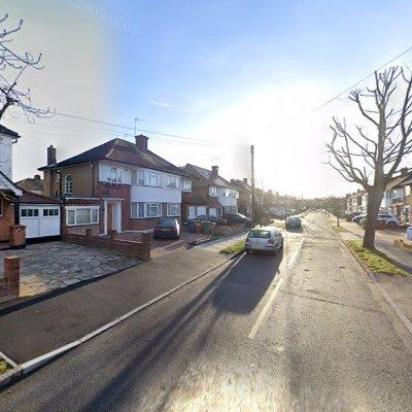stationary-car-offstreet: (150, 214, 180, 240), (181, 215, 227, 227), (360, 213, 399, 226), (221, 213, 252, 227), (351, 213, 368, 223), (406, 224, 412, 242)
stationary-car-onstreet: (243, 227, 283, 255)
stationary-light-truck-onstreet: (286, 216, 302, 230)
